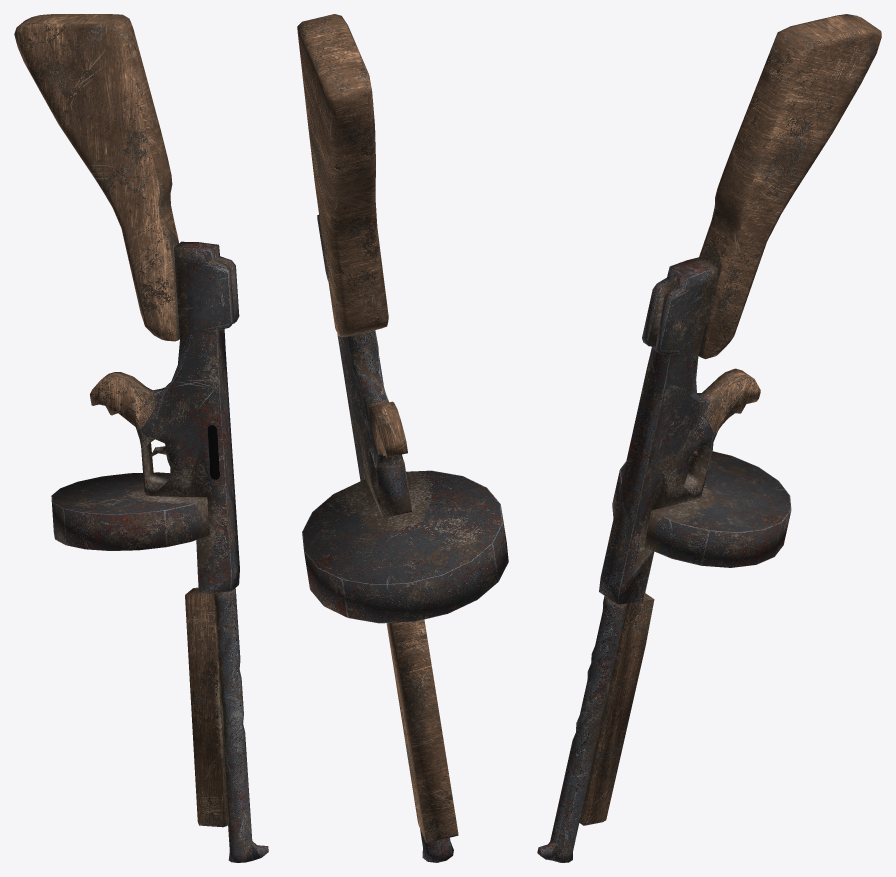
The model's file is Anim_idle_ametralladora_objetos.0050.obj.
The picture shows the model from 3 angles, left to right: view 1: azimuth 30°, elevation 25°; view 2: azimuth 150°, elevation 25°; view 3: azimuth 270°, elevation 25°; orthographic projection. The views are drawn at different scales.
Visible parts, largest first — view 1: Ametralladora1; view 2: Ametralladora1; view 3: Ametralladora1.
Part boxes in pixels (<box>): Ametralladora1: <box>14,14,268,862</box>; Ametralladora1: <box>297,14,508,862</box>; Ametralladora1: <box>537,14,881,862</box>.
Bounding box in the file's own units: 1.27 × 5.86 × 2.24.
